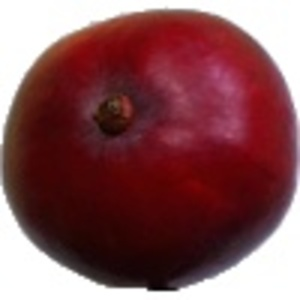manga: (1, 8, 300, 291)
